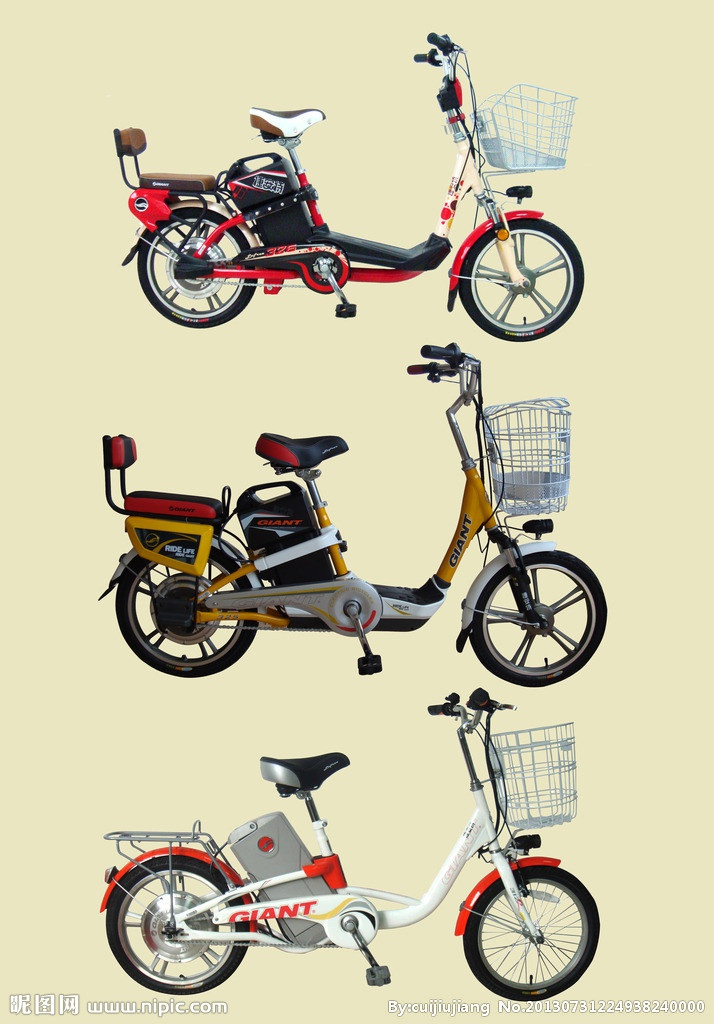non-vehicle: (101, 346, 601, 695), (97, 688, 609, 1003), (111, 37, 581, 353)
